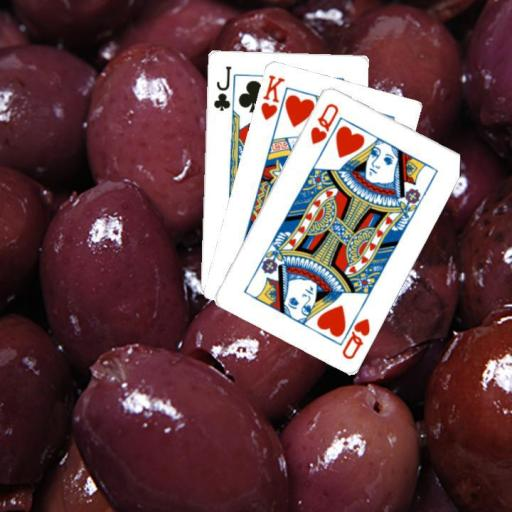JC: (210, 62, 233, 112)
KH: (257, 71, 286, 122)
QH: (335, 305, 372, 361), (306, 100, 340, 146)
